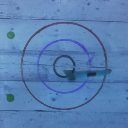Axe Tip: (63, 70, 74, 73)
